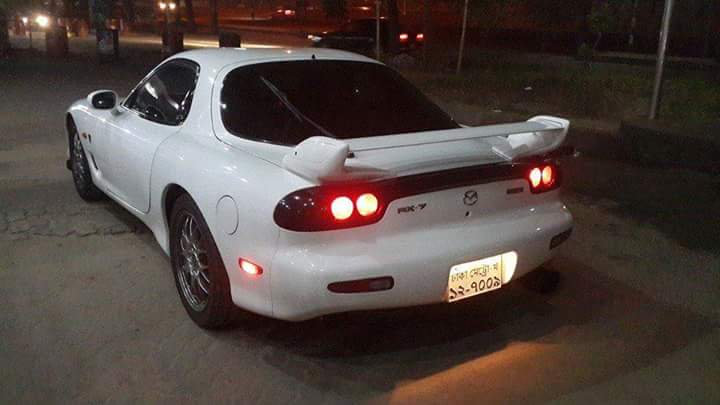registration_plate: (448, 254, 501, 302)
